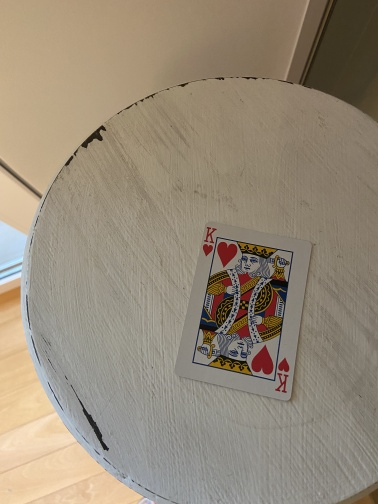king: (172, 220, 314, 404)
